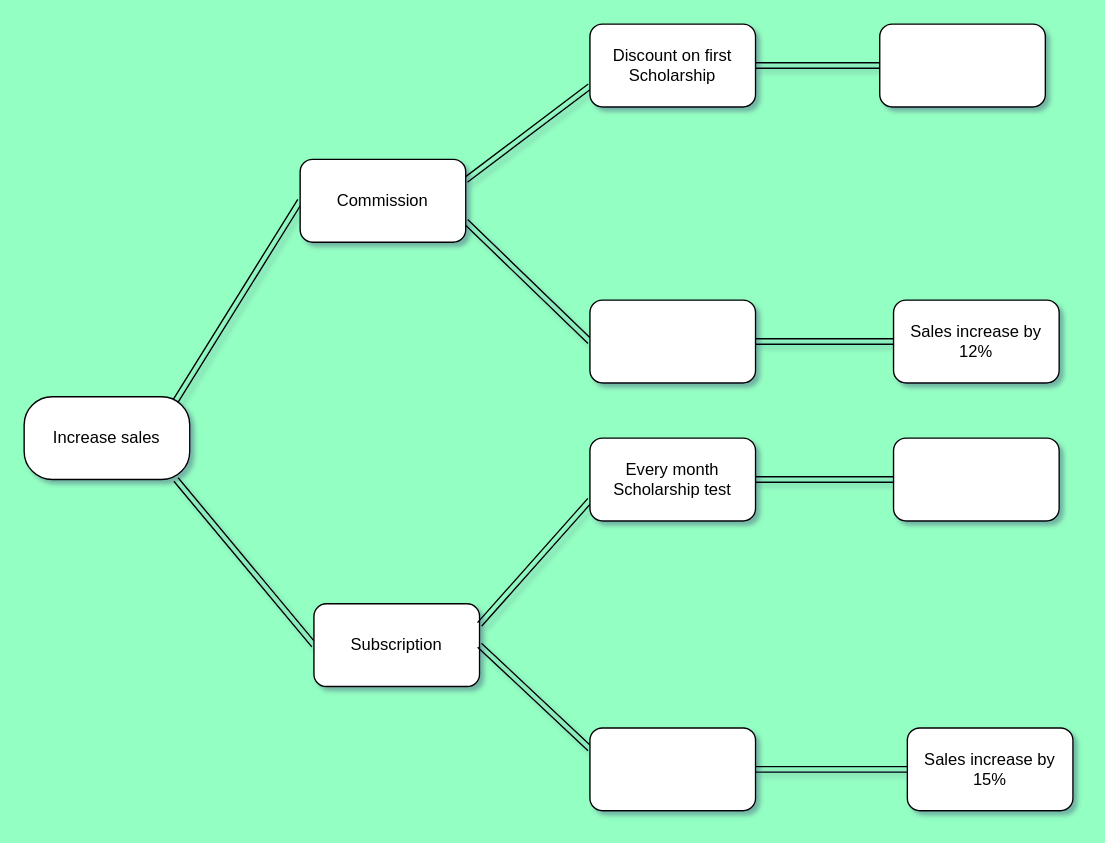
Some shapes in this 1105 by 843 pixel diagram are drawn without their labels. Each missing label, with the box of its shape:
Discount vouchers for next scholarship: (589, 299, 756, 383)
Fast access to scholarships: (589, 727, 756, 811)
Sales increase by 10%: (892, 437, 1059, 521)
Sales increase by 11%: (878, 23, 1045, 107)
